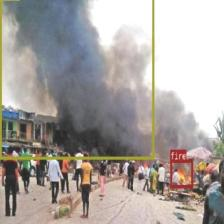fire: (170, 159, 193, 187)
smoke: (0, 0, 154, 159)
